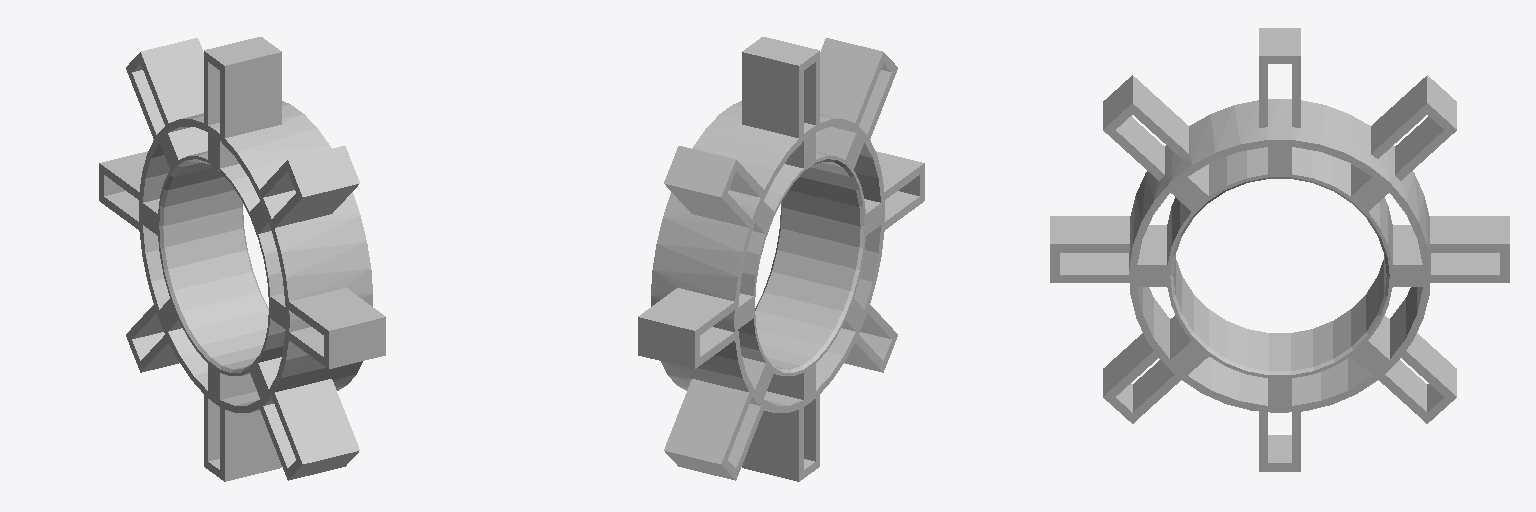
The model's file is Holder 02.obj.
The picture shows the model from 3 angles: view 1: azimuth 30°, elevation 25°; view 2: azimuth 150°, elevation 25°; view 3: azimuth 270°, elevation 25°; orthographic projection.
Parts seen in each view (by area): view 1: Держатель_подштпника.001; view 2: Держатель_подштпника.001; view 3: Держатель_подштпника.001.
Boxes of the visible parts, box(x1,y1,x2,y2) form: Держатель_подштпника.001: box(99, 37, 385, 481); Держатель_подштпника.001: box(638, 37, 924, 481); Держатель_подштпника.001: box(1050, 28, 1509, 471).
Size of the model in its own units: 16 by 76 by 76.